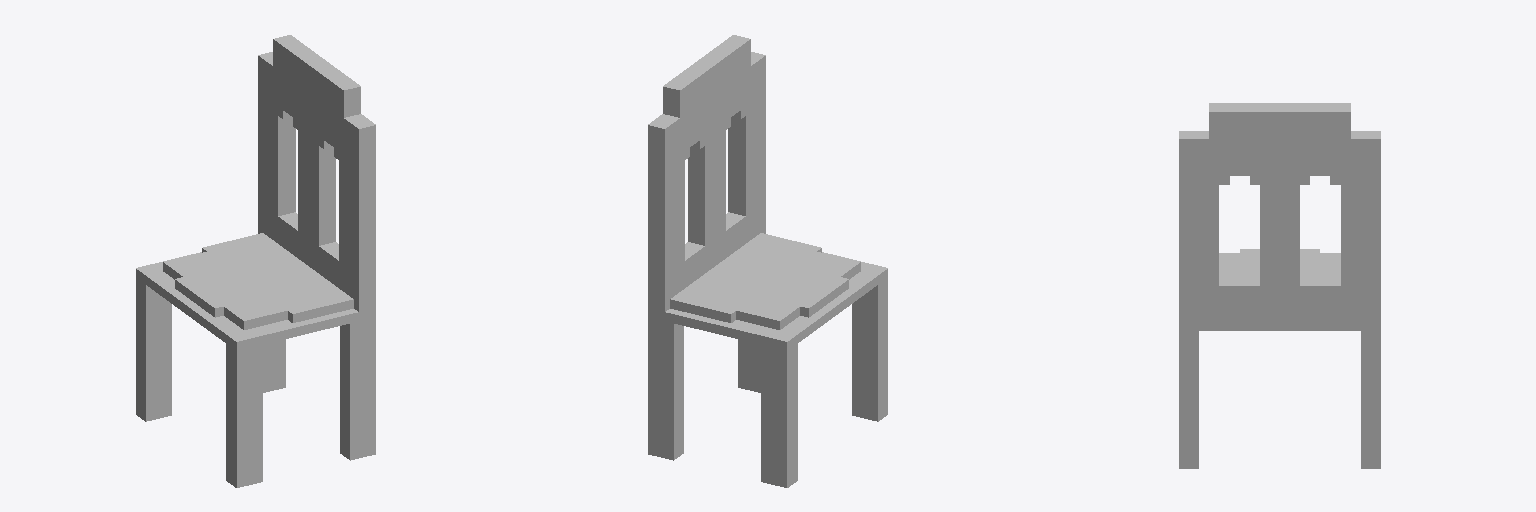
Rendered from Chaise.obj.
The picture shows the model from 3 angles: view 1: azimuth 30°, elevation 25°; view 2: azimuth 150°, elevation 25°; view 3: azimuth 270°, elevation 25°; orthographic projection.
Visible parts, largest first — view 1: object 1; view 2: object 1; view 3: object 1.
Boxes of the visible parts, box(x1,y1,x2,y2) form: object 1: box(136, 35, 375, 487); object 1: box(648, 35, 887, 487); object 1: box(1179, 103, 1380, 468).
Bounding box in the file's own units: 1.6 × 3.9 × 2.